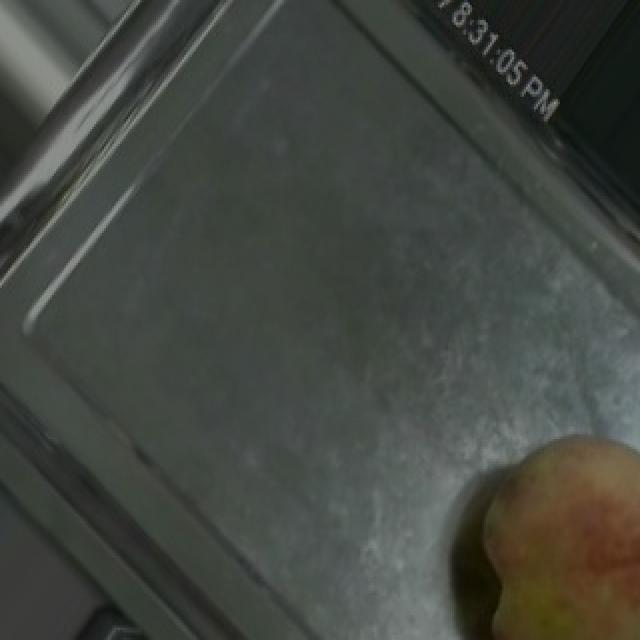Fruit: (448, 412, 640, 640)
